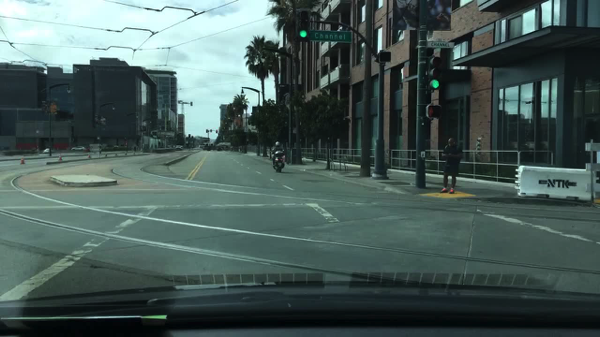car: (71, 146, 86, 151), (44, 148, 54, 154), (175, 146, 184, 151)
motor: (272, 150, 284, 172)
person: (441, 137, 462, 194)
rider: (271, 143, 284, 170)
traffic light: (429, 54, 442, 91), (297, 10, 310, 41), (425, 104, 443, 118)
traffic sign: (309, 29, 352, 43), (426, 42, 451, 47), (243, 125, 249, 132)
truck: (202, 145, 227, 151)
